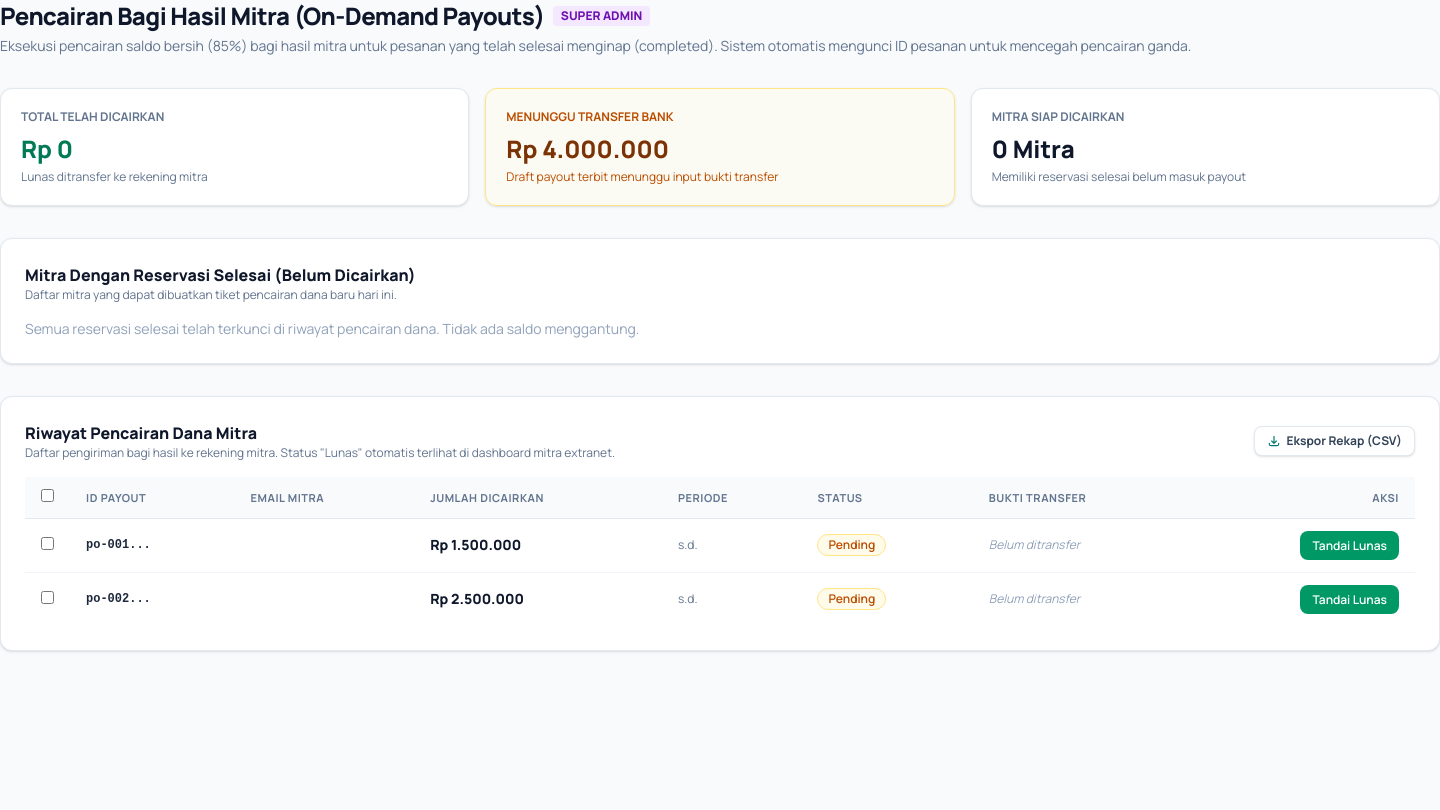
PayoutsPage.jsx Component Tests (Multi-select Batch Payout & CSV Export) › membuka modal batch payout dan memanggil markBatchPayoutAsPaid saat submit
The image size is (1440, 810).
Later steps or results of the test are not shown.
expect the text "po-001..." is shown: met, box [70,518,235,572]
Click the checkbox titled "Pilih semua payout pending". click: [48, 496]
box: [41,489,54,502]
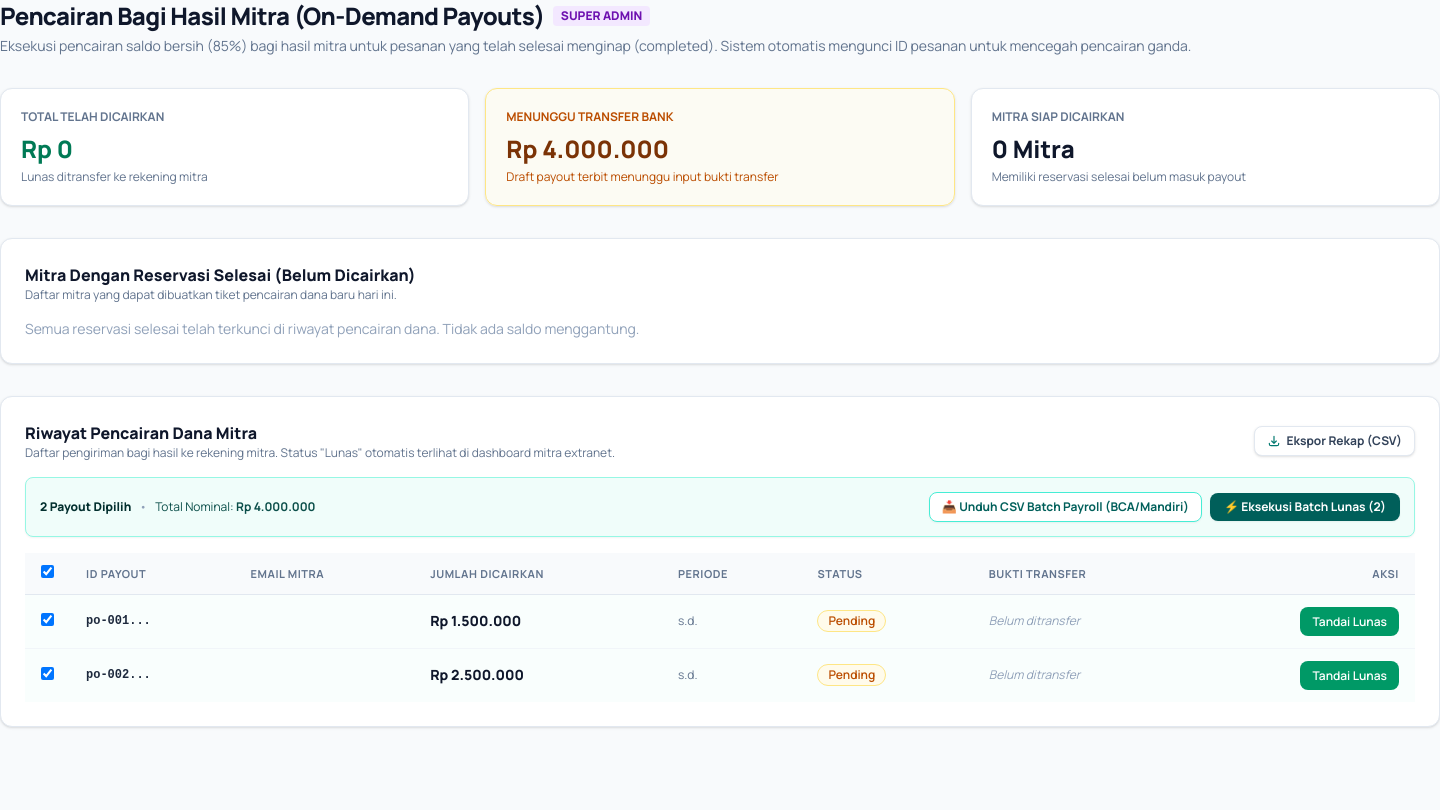
Click the button "⚡ Eksekusi Batch Lunas (2)". click: [1305, 507]
box: [1210,493,1400,521]
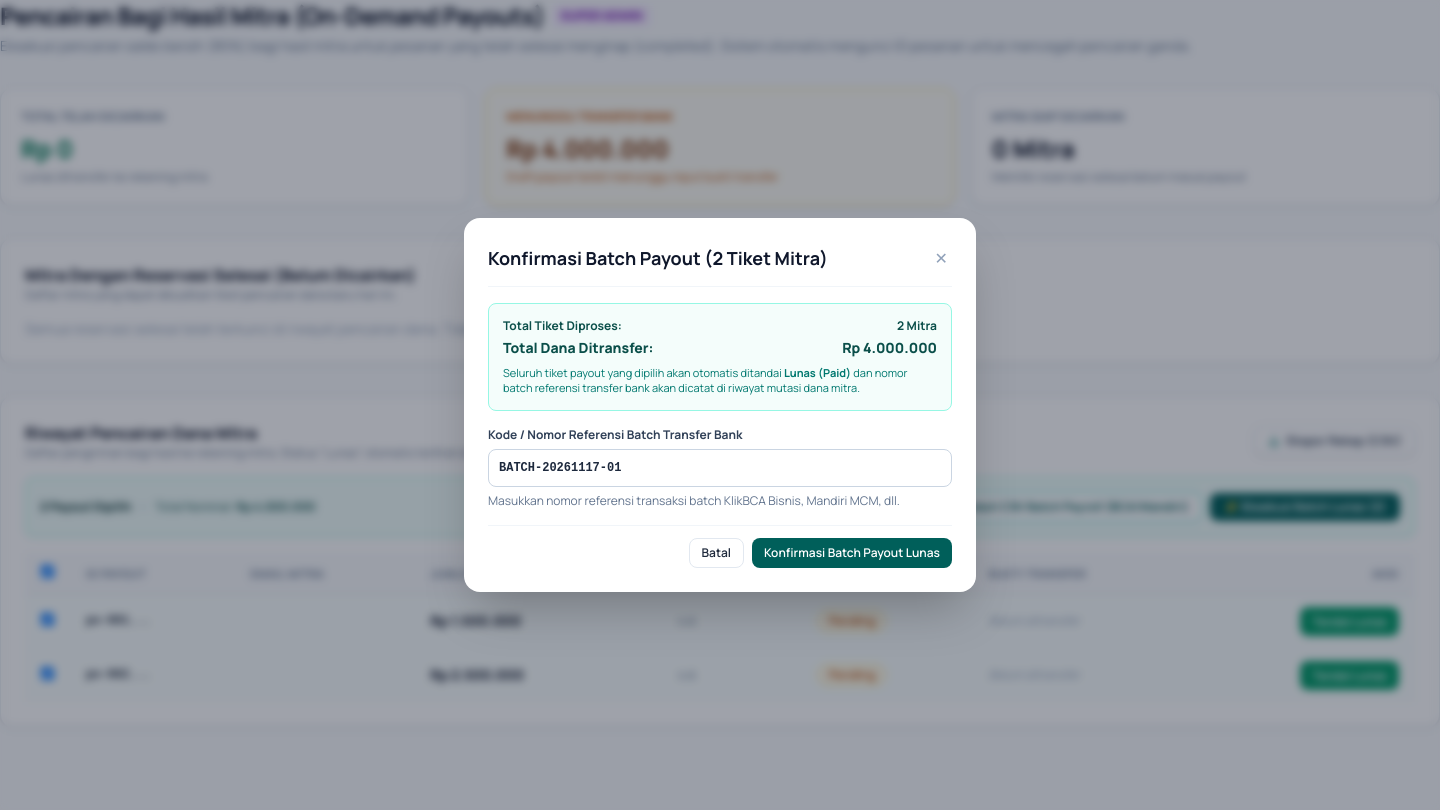
expect the heading "Konfirmasi Batch Payout (2 Tiket Mitra)" is shown: met, box [488,244,828,272]
